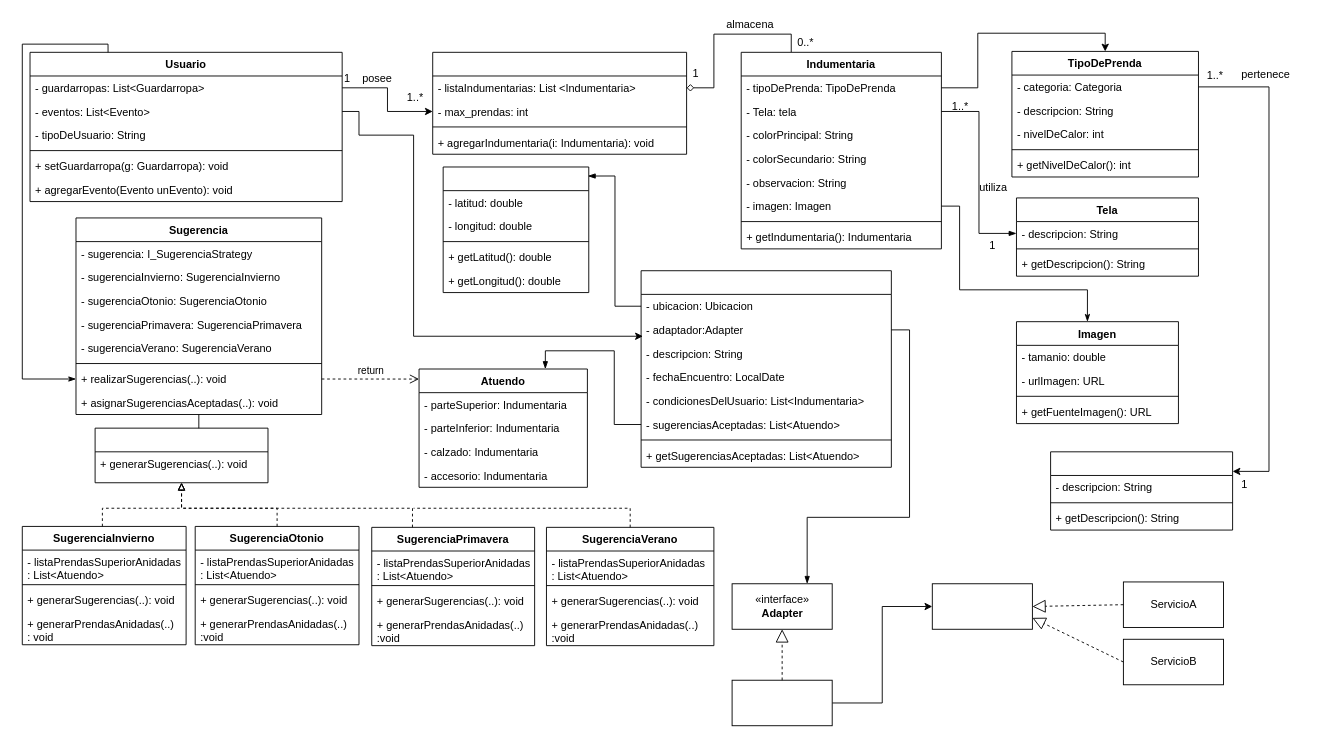
Image size: 1319x742. Some labels were removed from this diagram. The box of each missing label's shape, as (x1, y1, x2, y2) in pixels:
Adapter: (731, 679, 832, 726)
Categoria: (1050, 451, 1233, 530)
Evento: (640, 270, 891, 467)
Guardarropa: (432, 51, 687, 154)
I_SugerenciaStrategy: (94, 427, 268, 483)
Ubicacion: (442, 166, 589, 293)
«interface» ServicioClima: (931, 583, 1032, 629)
